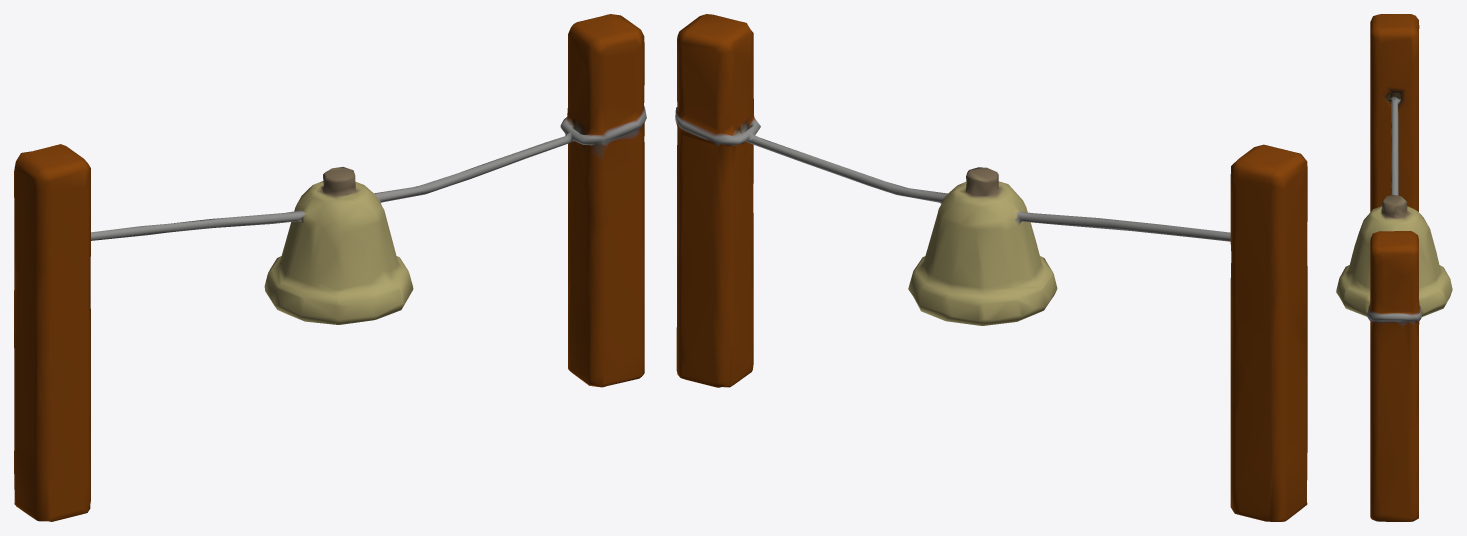
Rendered from gen3d-tripwire-lod0.glb.
3 renders of one model, left to right at view 1: azimuth 30°, elevation 25°; view 2: azimuth 150°, elevation 25°; view 3: azimuth 270°, elevation 25°, orthographic. The views are drawn at different scales.
Parts seen in each view (by area): view 1: part_0; view 2: part_0; view 3: part_0.
Part boxes in pixels (box(x1,y1,x2,y2)): part_0: box(14, 14, 646, 521); part_0: box(675, 14, 1307, 521); part_0: box(1336, 14, 1452, 521).
Size of the model in its own units: 1.83 by 0.9997 by 0.3805.
